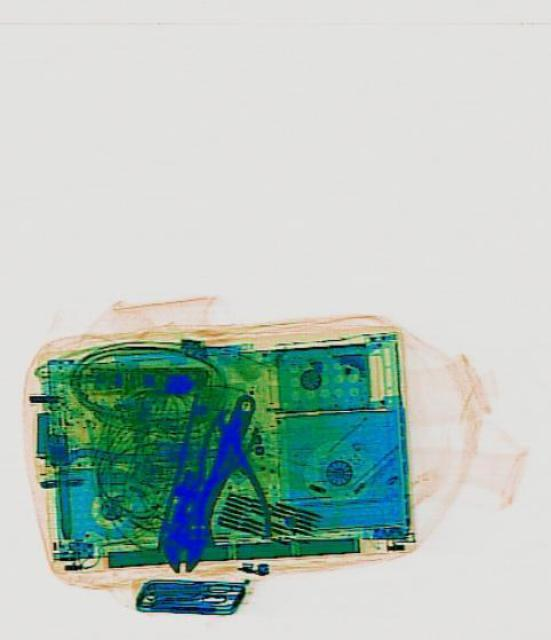Pliers: (193, 406, 270, 540)
Wrench: (149, 380, 266, 580)
